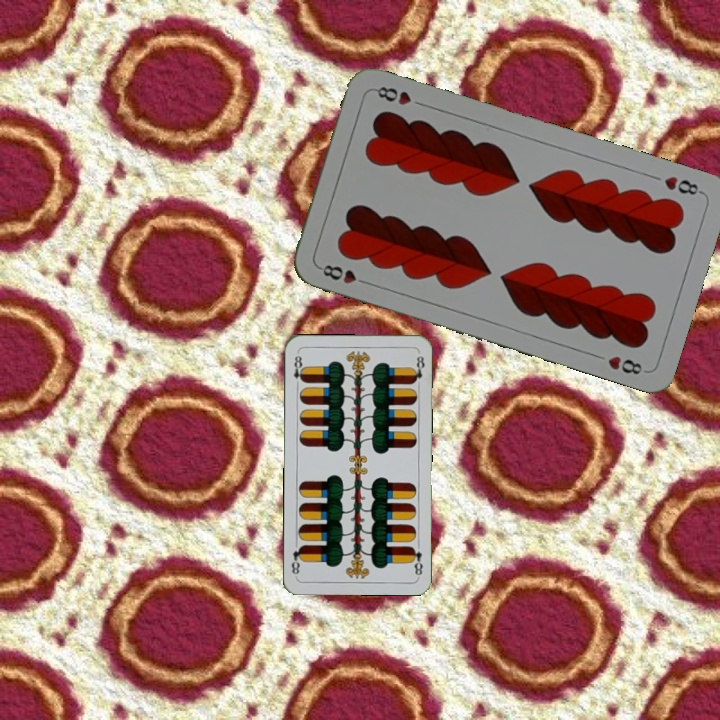E8: (290, 349, 307, 390), (407, 543, 425, 578)
H8: (315, 260, 372, 287), (660, 172, 705, 198)
